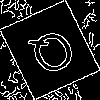Q: (25, 24, 84, 86)
